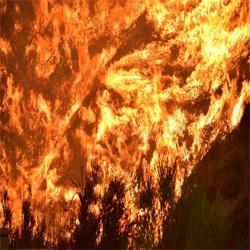fire: (161, 1, 246, 99), (109, 111, 197, 172), (38, 0, 144, 47)
